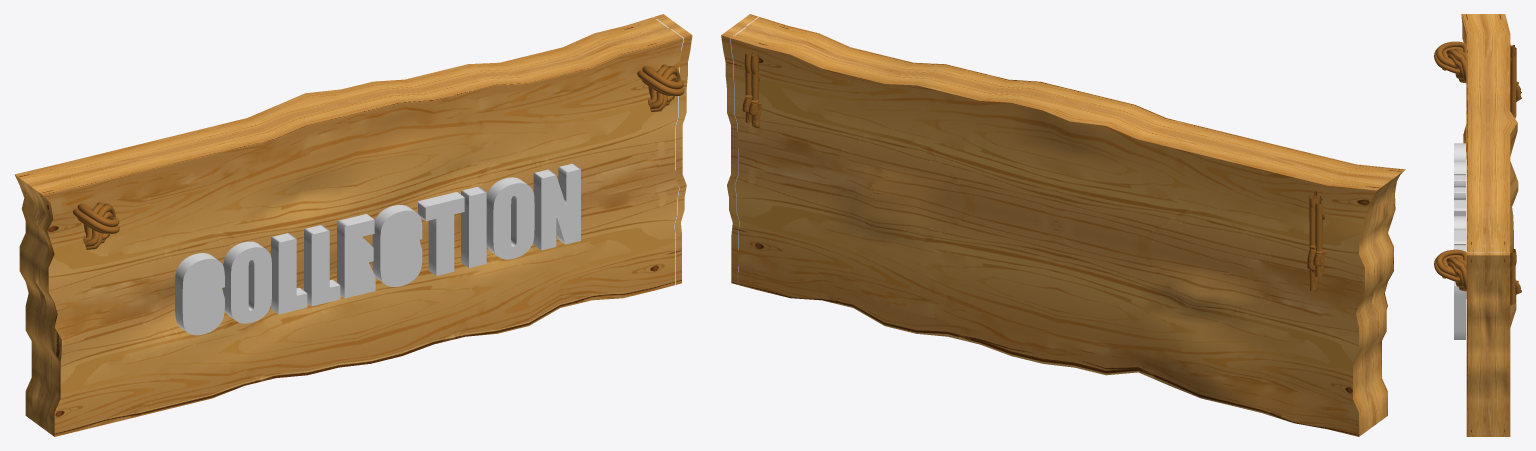
The model's file is thirdboardconnecto.fbx.
The picture shows the model from 3 angles, left to right: view 1: azimuth 30°, elevation 25°; view 2: azimuth 150°, elevation 25°; view 3: azimuth 270°, elevation 25°; orthographic projection. The views are drawn at different scales.
Visible parts, largest first — view 1: polySurface77, polySurface58, polySurface74, polySurface69, polySurface66, polySurface73, polySurface70, polySurface68, polySurface71, polySurface72, polySurface67; view 2: polySurface77, polySurface87, polySurface86; view 3: polySurface77, polySurface87, polySurface58, polySurface79, polySurface80, polySurface88, polySurface86, polySurface78, polySurface81, polySurface89, polySurface70, polySurface74 (+5 smaller).
Boxes of the visible parts, x1,y1,x2,y2 form: polySurface77: (14, 14, 692, 436); polySurface58: (533, 163, 580, 250); polySurface74: (175, 253, 224, 335); polySurface69: (372, 205, 422, 286); polySurface66: (486, 177, 534, 259); polySurface73: (223, 241, 271, 323); polySurface70: (337, 214, 375, 298); polySurface68: (418, 192, 464, 275); polySurface71: (304, 225, 340, 306); polySurface72: (271, 233, 307, 314); polySurface67: (461, 186, 486, 267); polySurface77: (721, 14, 1405, 436); polySurface87: (1307, 191, 1318, 291); polySurface86: (1313, 198, 1324, 277); polySurface77: (1461, 14, 1518, 436); polySurface87: (1434, 44, 1521, 118); polySurface58: (1454, 281, 1465, 339); polySurface79: (1434, 251, 1521, 304); polySurface80: (1436, 249, 1515, 288); polySurface88: (1436, 41, 1510, 92); polySurface86: (1446, 49, 1521, 93); polySurface78: (1446, 246, 1521, 291); polySurface81: (1442, 255, 1515, 305); polySurface89: (1442, 47, 1463, 78); polySurface70: (1454, 198, 1465, 215); polySurface74: (1454, 143, 1465, 160).
Size of the model in its own units: 13.69 by 5.1 by 2.11.
3 materials, 1 textured.
